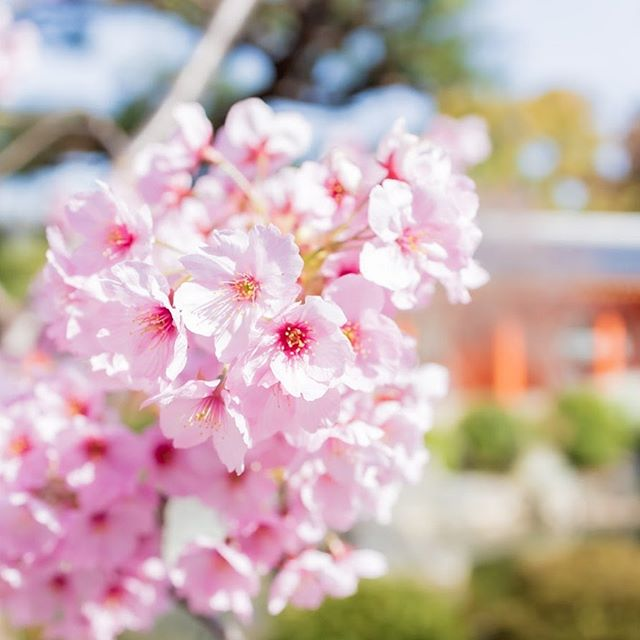flowers: (1, 87, 510, 640)
